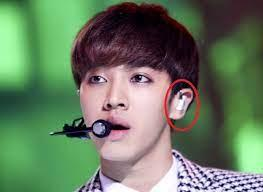earphone: (174, 92, 188, 113)
